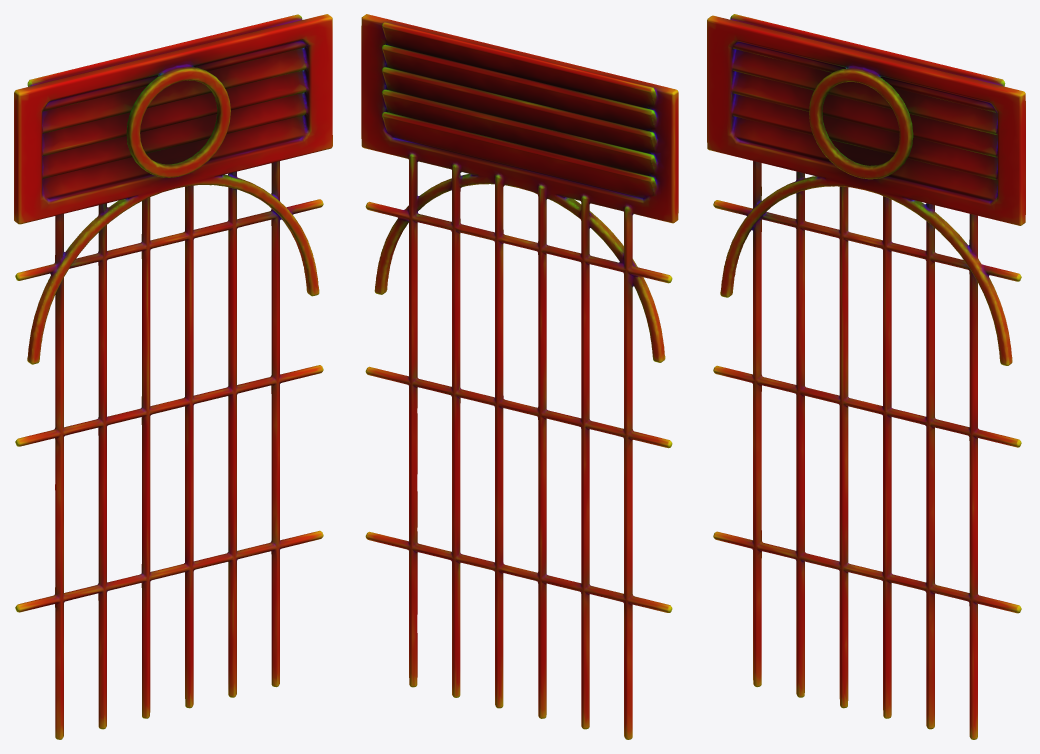
File: Wall.fbx
3 views of the same model, side by side, from view 1: azimuth 30°, elevation 25°; view 2: azimuth 150°, elevation 25°; view 3: azimuth 330°, elevation 25° (orthographic).
Visible parts, largest first — view 1: transform1; view 2: transform1; view 3: transform1.
Boxes of the visible parts, box(x1,y1,x2,y2) form: transform1: box(14, 14, 332, 739); transform1: box(361, 14, 678, 739); transform1: box(707, 14, 1025, 739).
Size of the model in its own units: 250 by 19.85 by 503.
